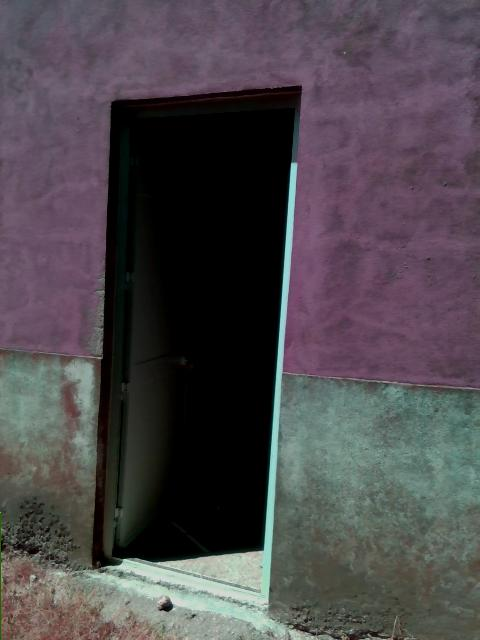open_door: (90, 82, 302, 614)
